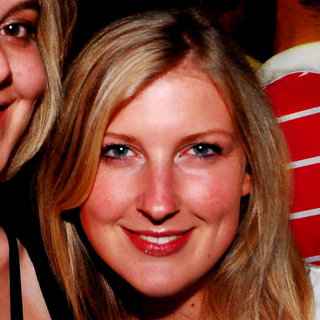eye: (178, 138, 225, 164), (94, 139, 142, 163), (3, 15, 34, 42)
